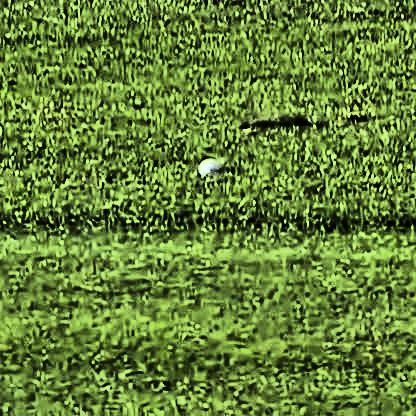golfball: (194, 156, 219, 180)
